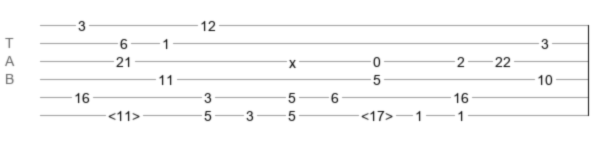0: (373, 54, 381, 64)
1: (162, 36, 170, 46), (415, 108, 423, 118), (457, 108, 465, 118)
10: (537, 72, 553, 82)
11: (158, 72, 174, 82)
12: (200, 18, 216, 28)
16: (74, 90, 90, 100), (453, 90, 469, 100)
2: (457, 54, 465, 64)
21: (116, 54, 132, 64)
22: (495, 54, 511, 64)
3: (78, 18, 86, 28), (204, 90, 212, 100), (246, 108, 254, 118), (541, 36, 549, 46)
5: (204, 108, 212, 118), (288, 108, 296, 118), (288, 90, 296, 100), (373, 72, 381, 82)
6: (120, 36, 128, 46), (331, 90, 339, 100)
harmonic: (108, 108, 140, 118), (361, 108, 393, 118)
x: (289, 55, 296, 63)
